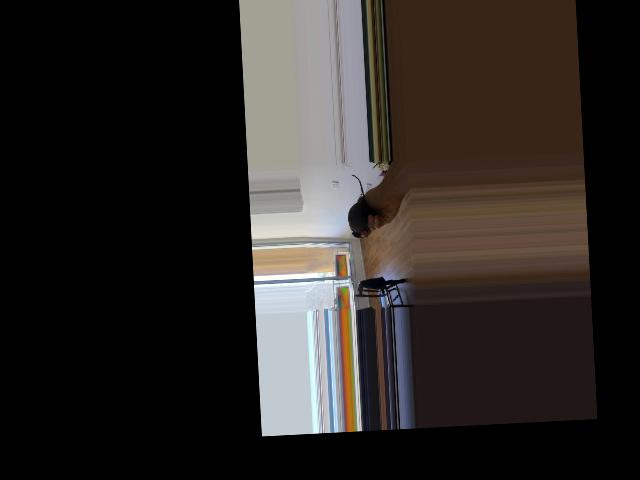beet: (346, 174, 370, 239)
